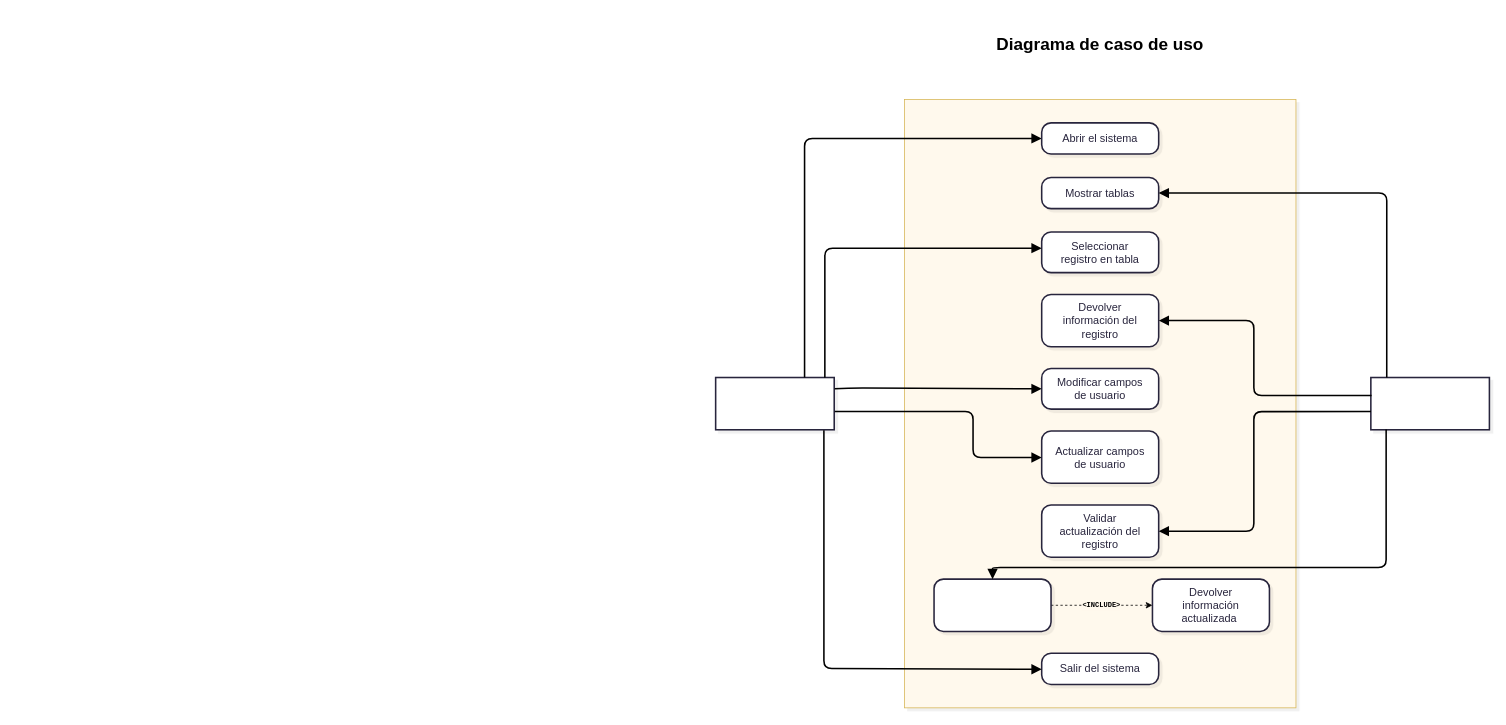
Image size: 1506x725. Some labels were removed from this diagram. The centre of each missing label's shape, as x and y in pixels:
"Actualizar registro en base de datos" goes at [994,606].
"⚙️ Argos (Sistema)" goes at [1431,404].
"👤 Usuario / Administrador" goes at [776,404].
